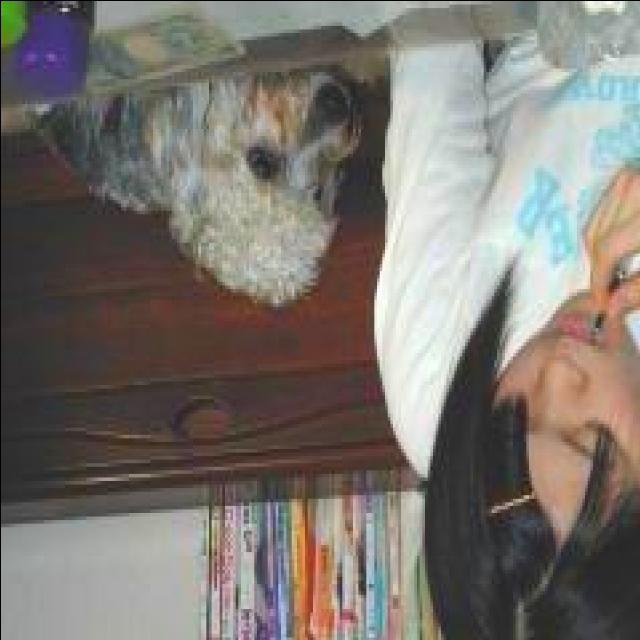dandie_dinmont: (21, 64, 363, 313)
